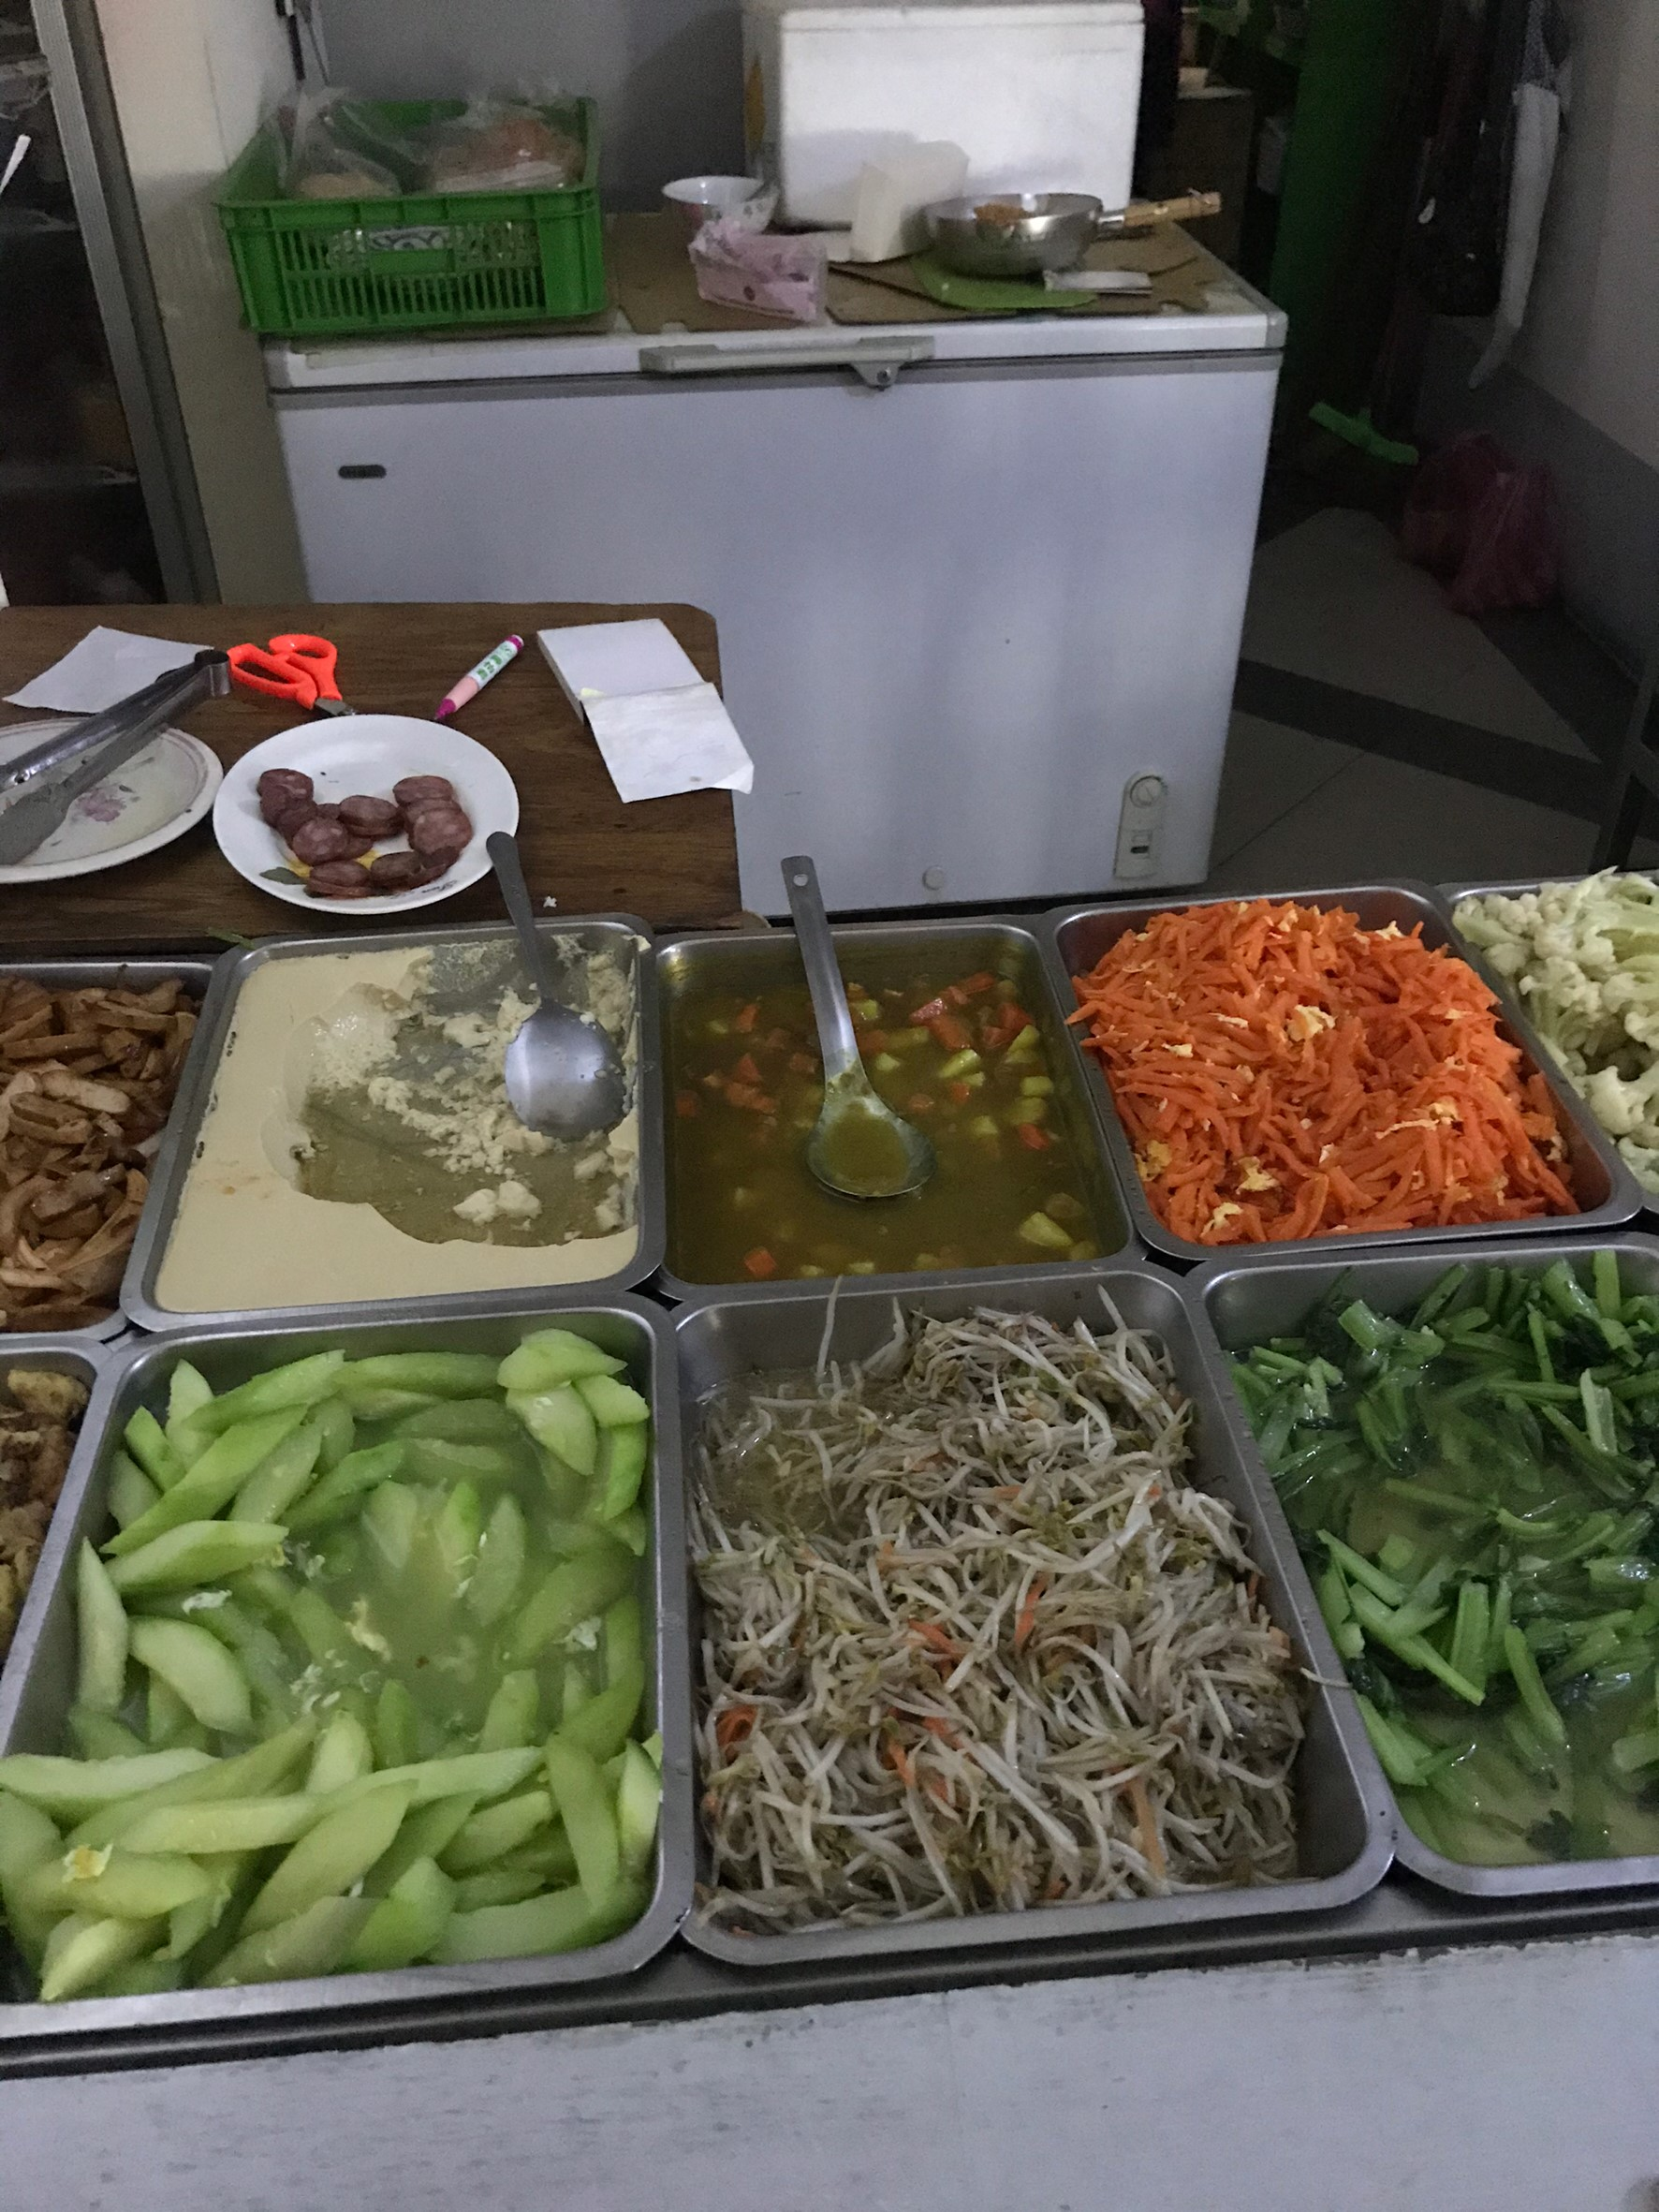carrot_eggs: (1127, 908, 1554, 1218)
chinese_sausage: (256, 765, 471, 899)
curry: (681, 973, 1040, 1271)
mung_bean_sprouts: (702, 1333, 1194, 1900)
